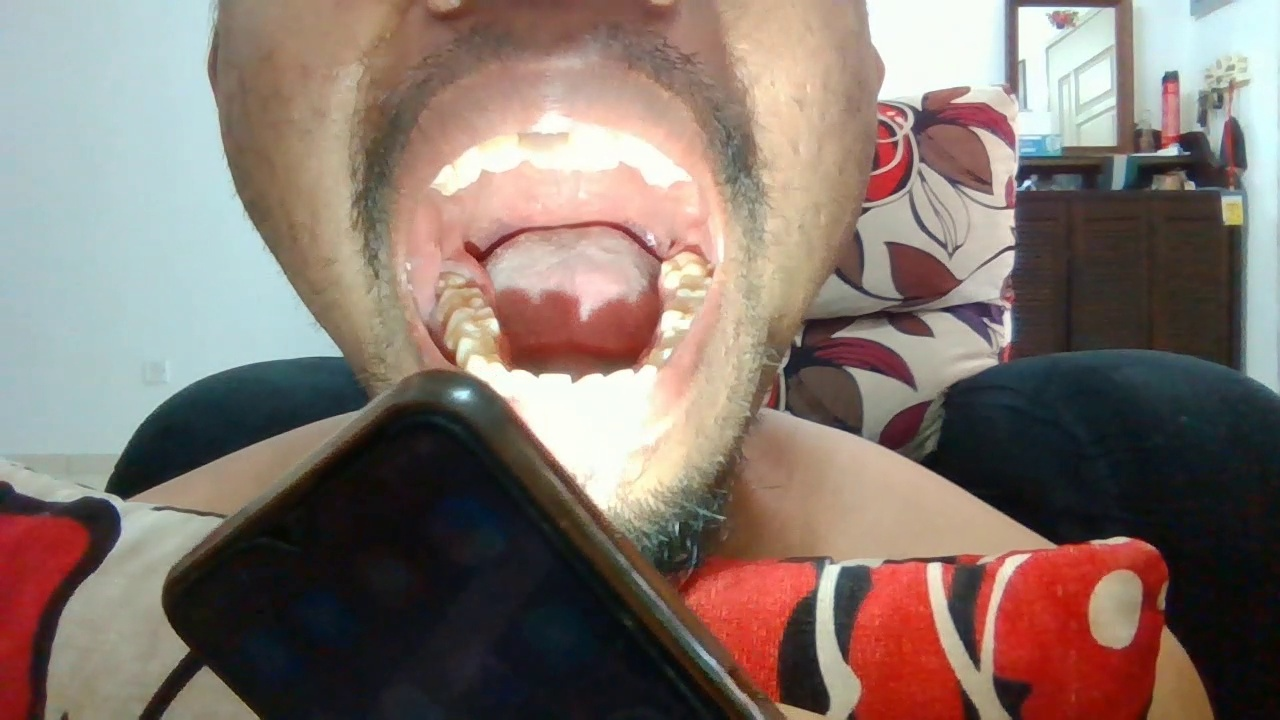1st Molar: (442, 308, 500, 337), (666, 297, 706, 312)
1st Premolar: (658, 309, 698, 330), (465, 354, 500, 376), (645, 346, 677, 361)
2nd Molar: (434, 287, 485, 310), (673, 276, 715, 297)
2nd Premolar: (453, 336, 495, 360)
3rd Molar: (657, 251, 707, 278), (434, 268, 476, 290)
Canine: (454, 147, 482, 192), (637, 362, 659, 397), (487, 362, 509, 395)
Central Incisor: (570, 126, 620, 174), (517, 130, 569, 167), (539, 372, 574, 406), (573, 373, 605, 408)
Lateral Incisor: (481, 133, 520, 173), (509, 369, 539, 408), (606, 369, 636, 408)
